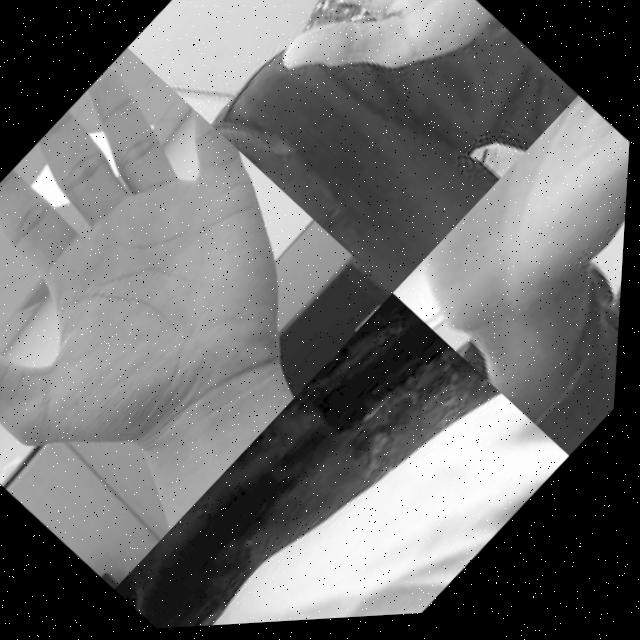hand: (0, 37, 367, 548), (208, 351, 579, 629), (398, 99, 634, 409), (180, 0, 498, 164)
